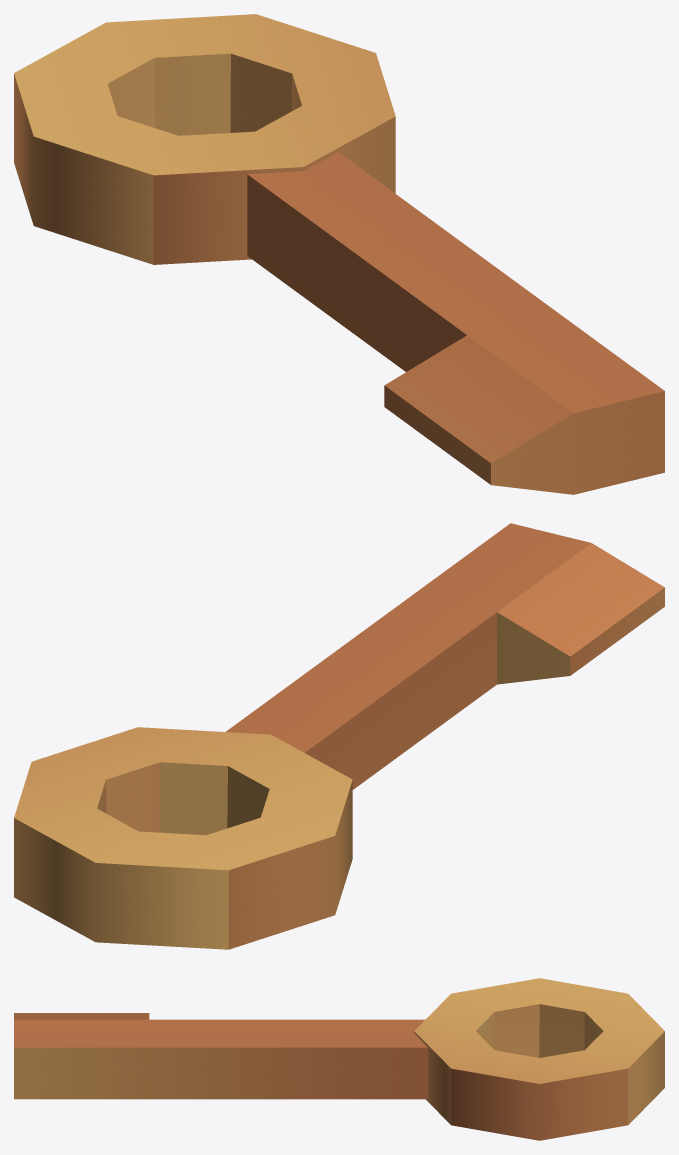
The model's file is key 1.fbx.
3 renders of one model, top to bottom at view 1: azimuth 30°, elevation 25°; view 2: azimuth 150°, elevation 25°; view 3: azimuth 270°, elevation 25°, orthographic. The views are drawn at different scales.
Visible parts, largest first — view 1: Box001; view 2: Box001; view 3: Box001.
Boxes of the visible parts, left/top/right/bottom form: Box001: left=14, top=14, right=664, bottom=494; Box001: left=14, top=523, right=664, bottom=949; Box001: left=14, top=978, right=664, bottom=1140.
Bounding box in the file's own units: 55 × 13.75 × 143.
